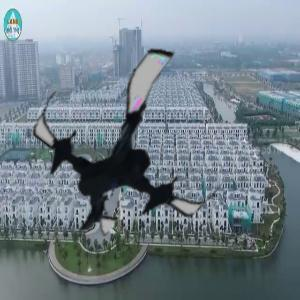drone: (29, 44, 235, 250)
